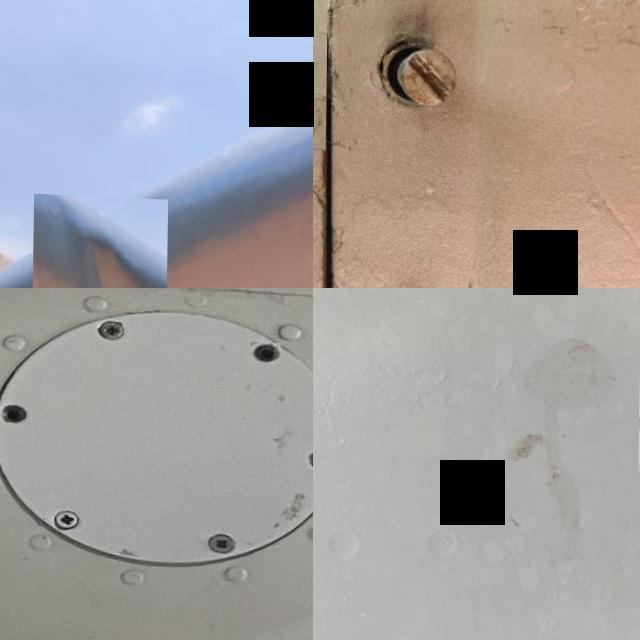Dent: (33, 190, 169, 288)
Missing_Fastener: (1, 402, 30, 425), (251, 339, 281, 360), (305, 443, 313, 467)
